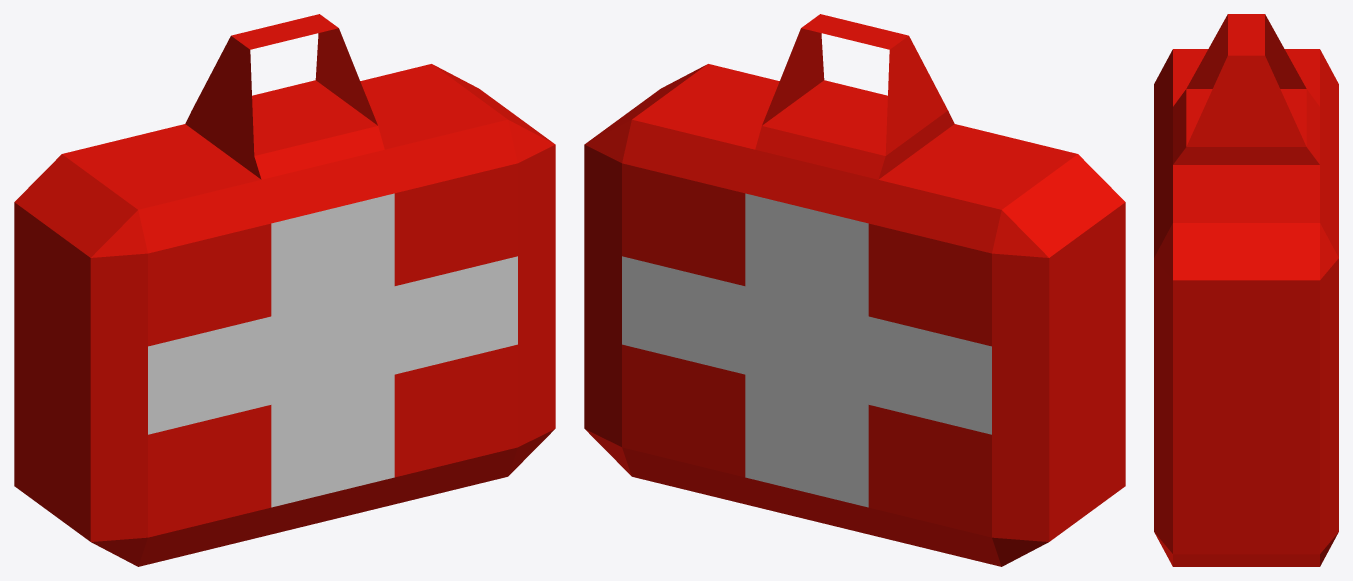
File: health.fbx
3 renders of one model, left to right at view 1: azimuth 30°, elevation 25°; view 2: azimuth 150°, elevation 25°; view 3: azimuth 270°, elevation 25°, orthographic. The views are drawn at different scales.
Visible parts, largest first — view 1: health; view 2: health; view 3: health.
Part boxes in pixels (x1=…): health: x1=14, y1=14, x2=555, y2=566; health: x1=584, y1=14, x2=1125, y2=566; health: x1=1154, y1=14, x2=1338, y2=566.
Size of the model in its own units: 152 by 144 by 54.18.
